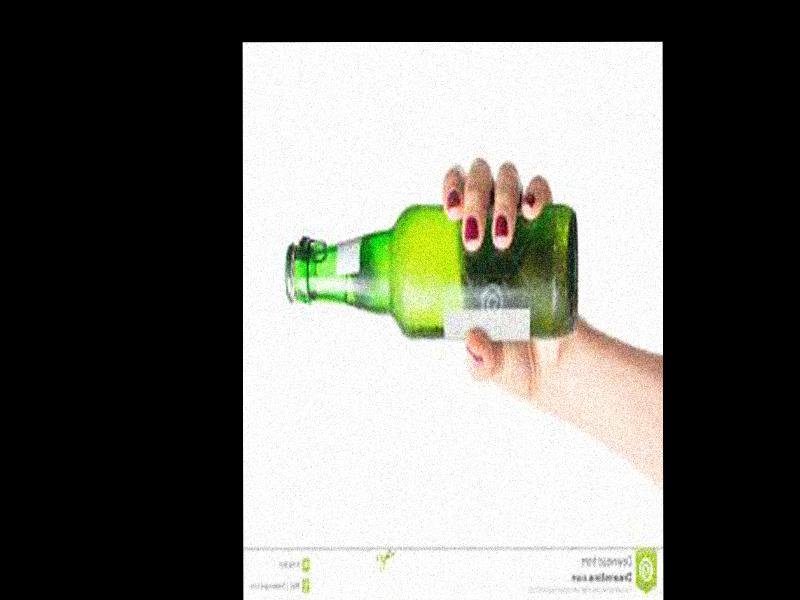Beer: (284, 195, 576, 344)
